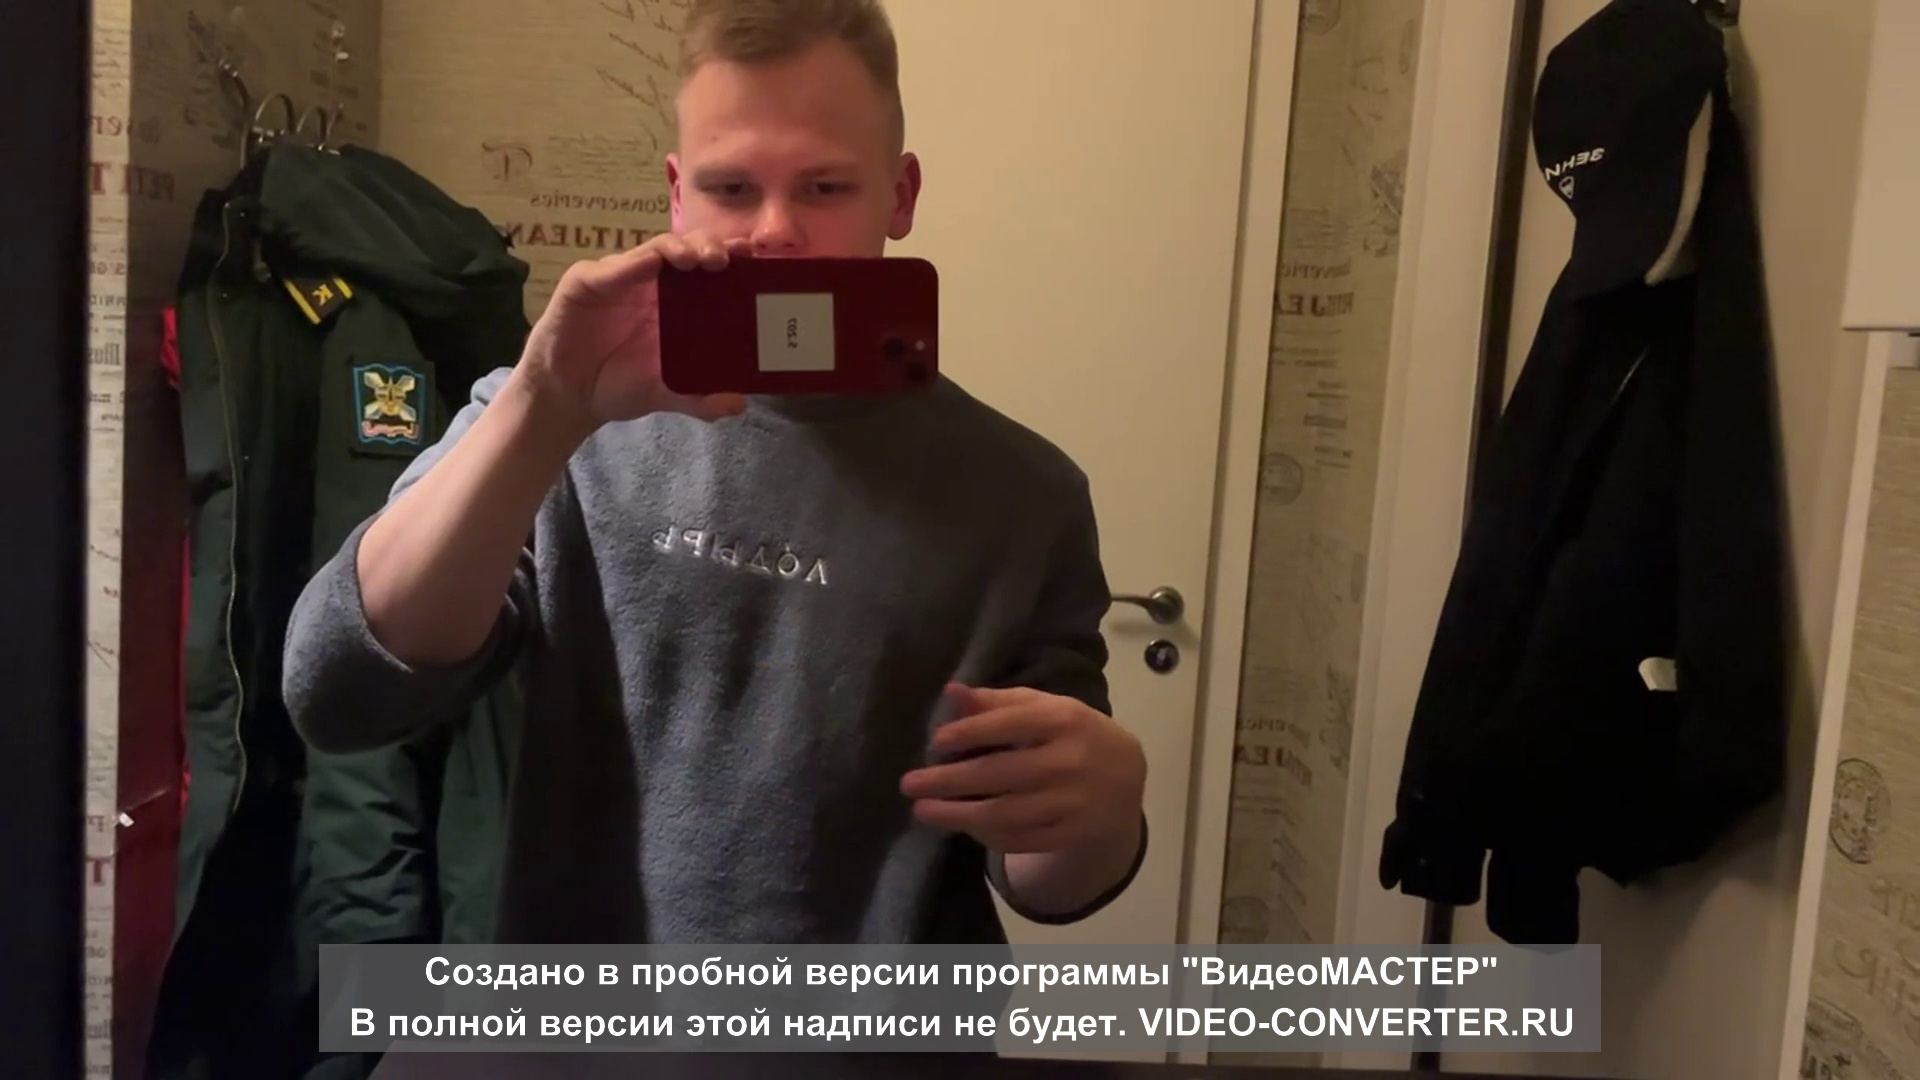Кисть: (901, 675, 1151, 853)
